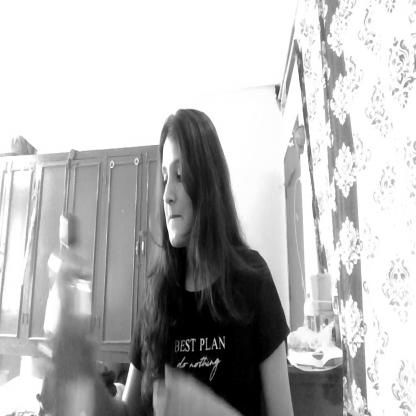Distracted: (157, 107, 222, 264)
